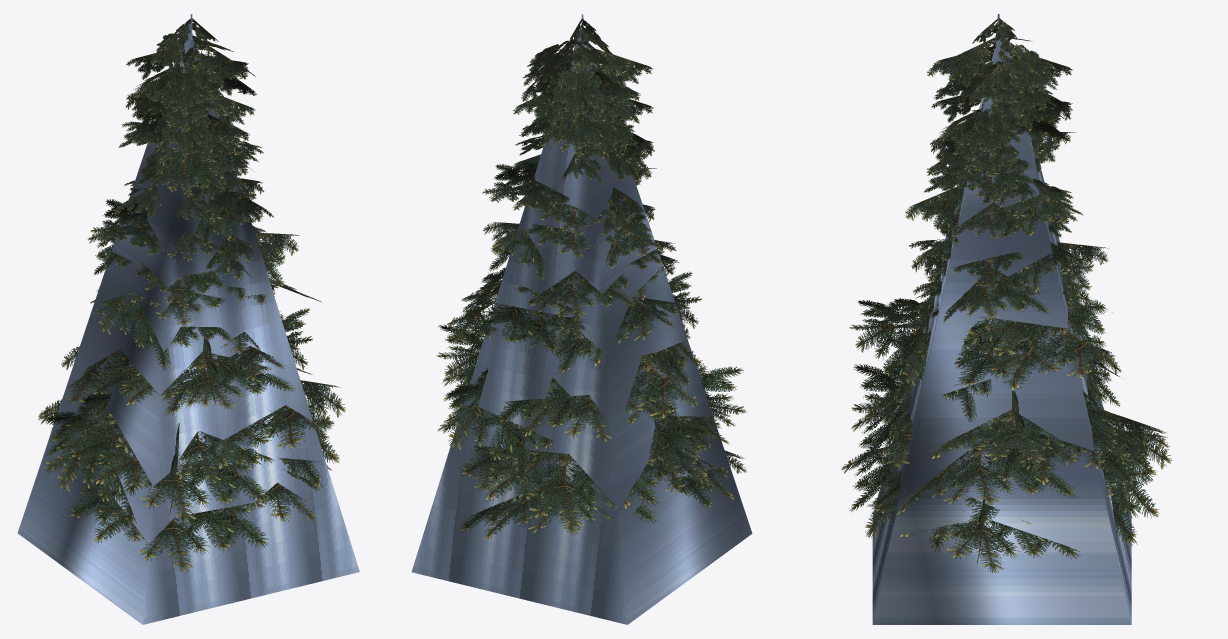
The model's file is trees_elka_1_01.fbx.
The picture shows the model from 3 angles, left to right: view 1: azimuth 30°, elevation 25°; view 2: azimuth 150°, elevation 25°; view 3: azimuth 270°, elevation 25°; orthographic projection. The views are drawn at different scales.
Visible parts, largest first — view 1: 1, 3; view 2: 1, 3; view 3: 3, 1.
Boxes of the visible parts, x1,y1,x2,y2 form: 1: (17,23,359,624); 3: (38,18,345,572); 1: (411,23,752,624); 3: (436,18,746,540); 3: (841,18,1171,573); 1: (872,24,1131,624).
Size of the model in its own units: 5.2 by 8.38 by 5.23.
3 materials, 3 textured.
